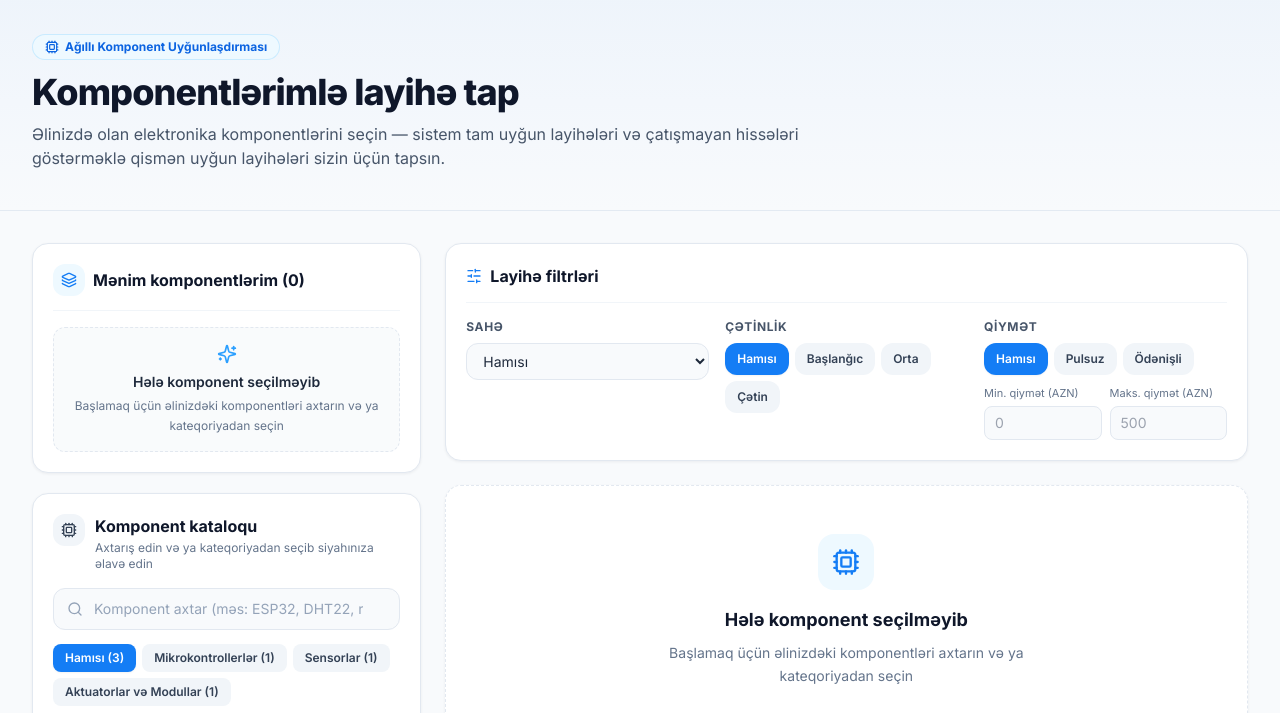
Test case: ComponentFinderPage › supports search, category filtering, add/remove, clear all, and full vs partial match display
The width and height of the screenshot is (1280, 713).
Earlier steps of the test are not shown.
Type "ESP32" into the field with placeholder "Komponent axtar (məs: ESP32, DHT22, rele)..." at coordinates (227, 609), box [53,588,400,630]
(page scrolled)
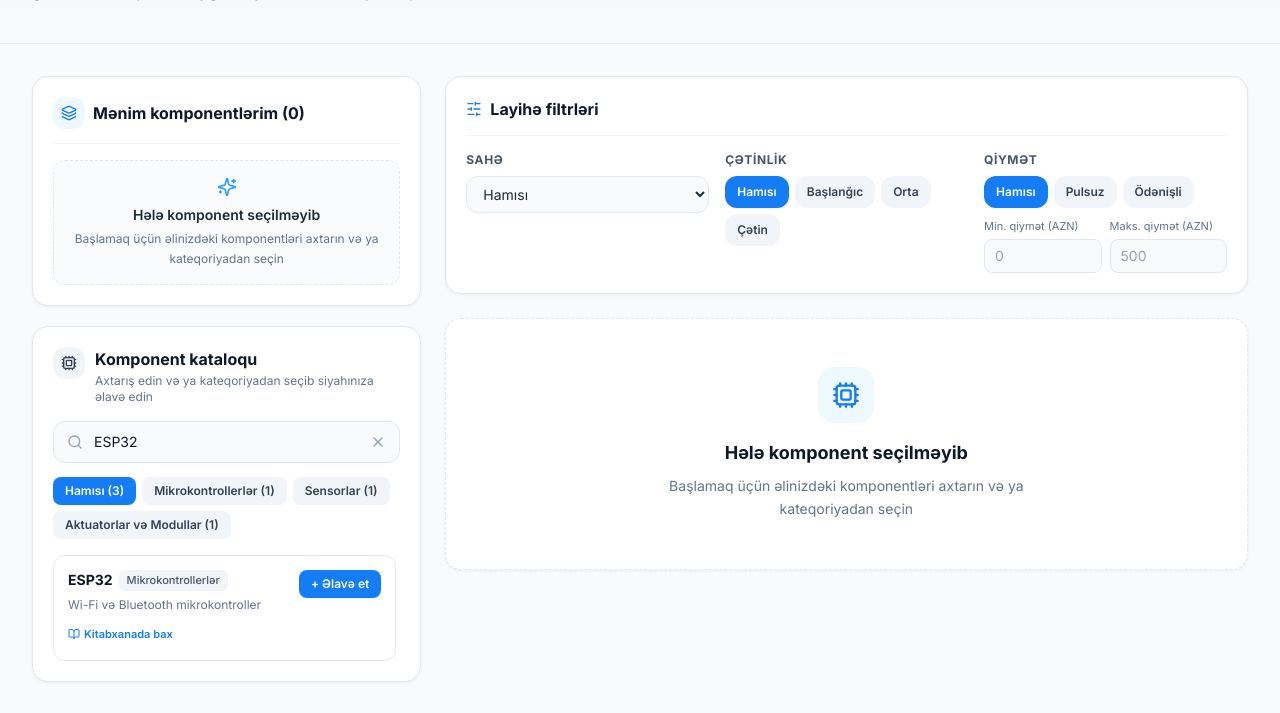
Now the heading "ESP32" is shown, box [68,570,113,590]
// Add ESP32
Click the button with aria-label "ESP32 — + Əlavə et" at coordinates (340, 584), box [299,570,381,598]
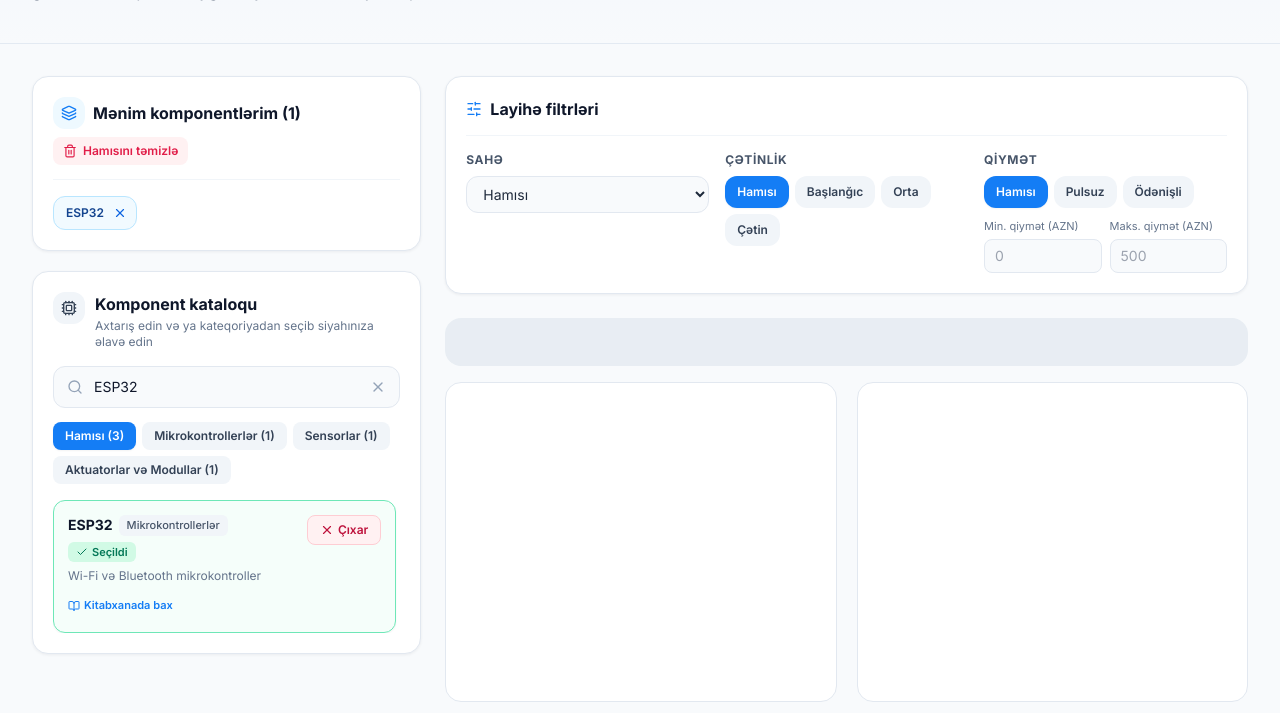
Now the heading "Mənim komponentlərim (1)" is shown, box [93,101,301,125]
Click the button named "Axtarışı təmizlə" at coordinates (378, 387), box [366,375,390,399]
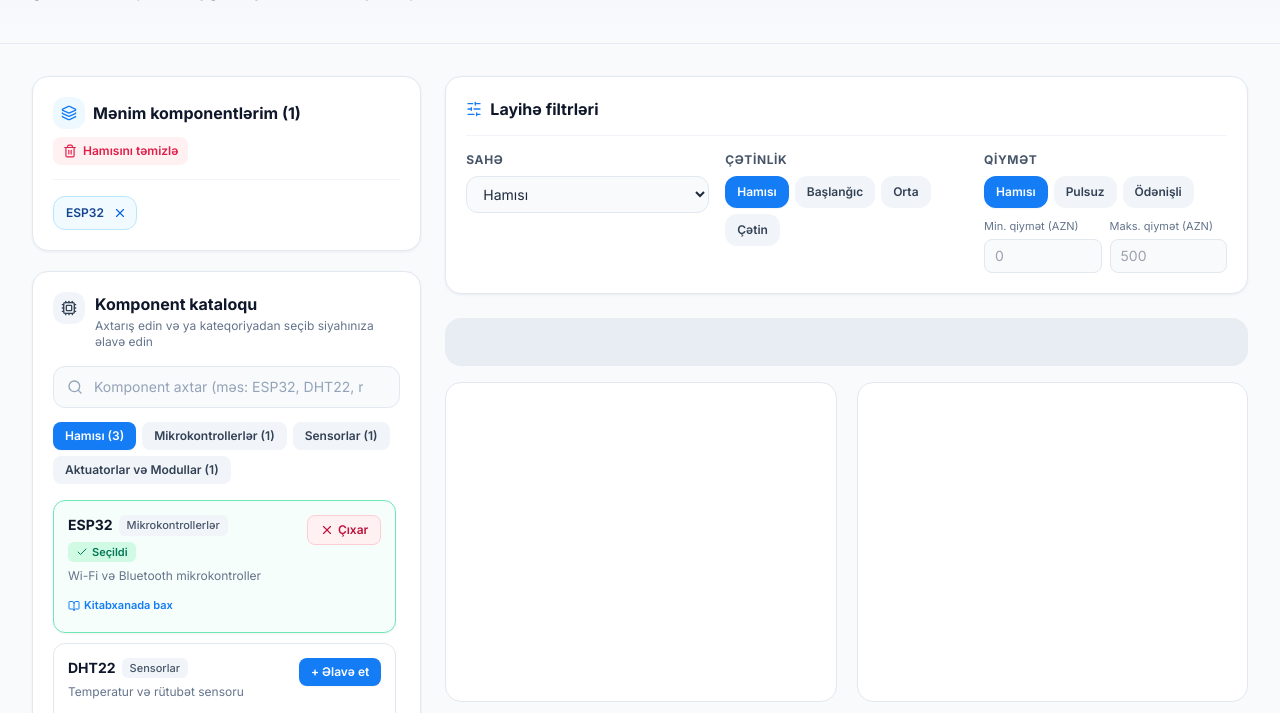
Click the button with aria-label "DHT22 — + Əlavə et" at coordinates (340, 672), box [299,658,381,686]
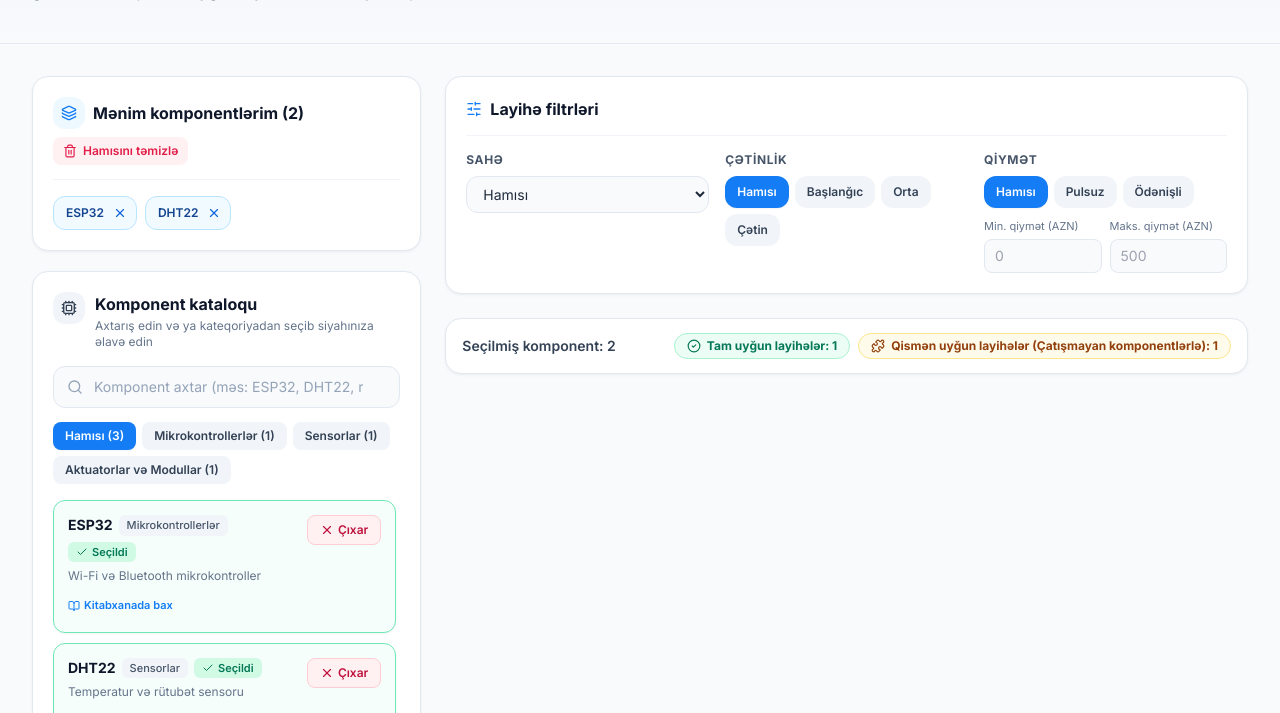
Now the button with aria-label "ESP32 — Çıxar" is shown, box [307,515,381,545]
Now the heading "Mənim komponentlərim (2)" is shown, box [93,101,304,125]
// Remove one item from tray
Click the button named "ESP32 — Sil" at coordinates (120, 213), box [110,203,130,223]
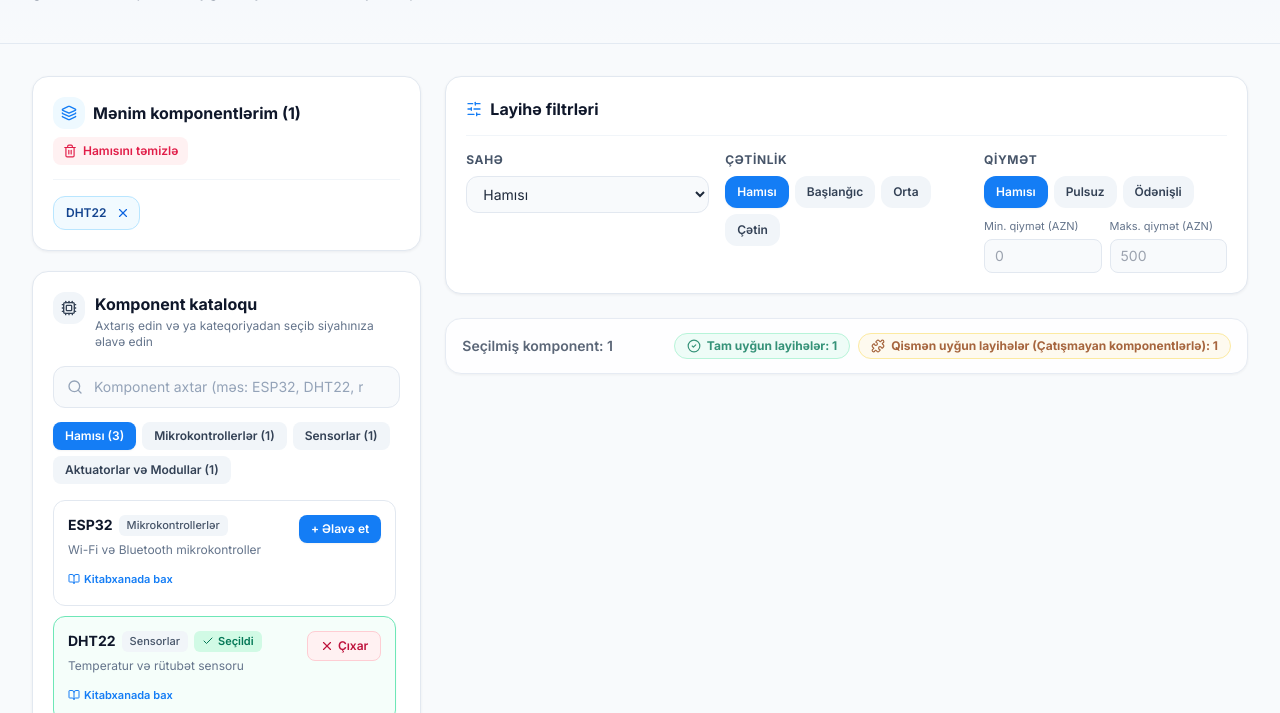
Now the heading "Mənim komponentlərim (1)" is shown, box [93,101,301,125]
// Clear all
Click the button "Hamısını təmizlə" at coordinates (121, 151), box [53,137,188,165]
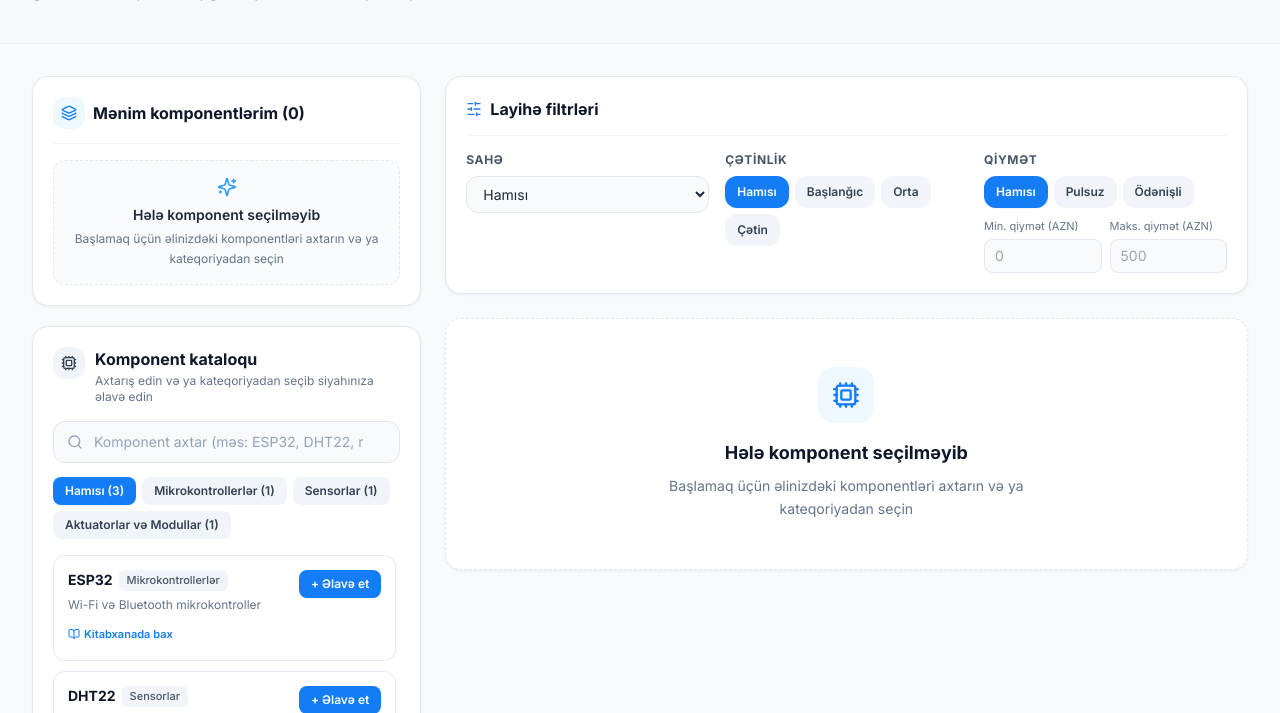
Now the heading "Mənim komponentlərim (0)" is shown, box [93,101,305,125]
